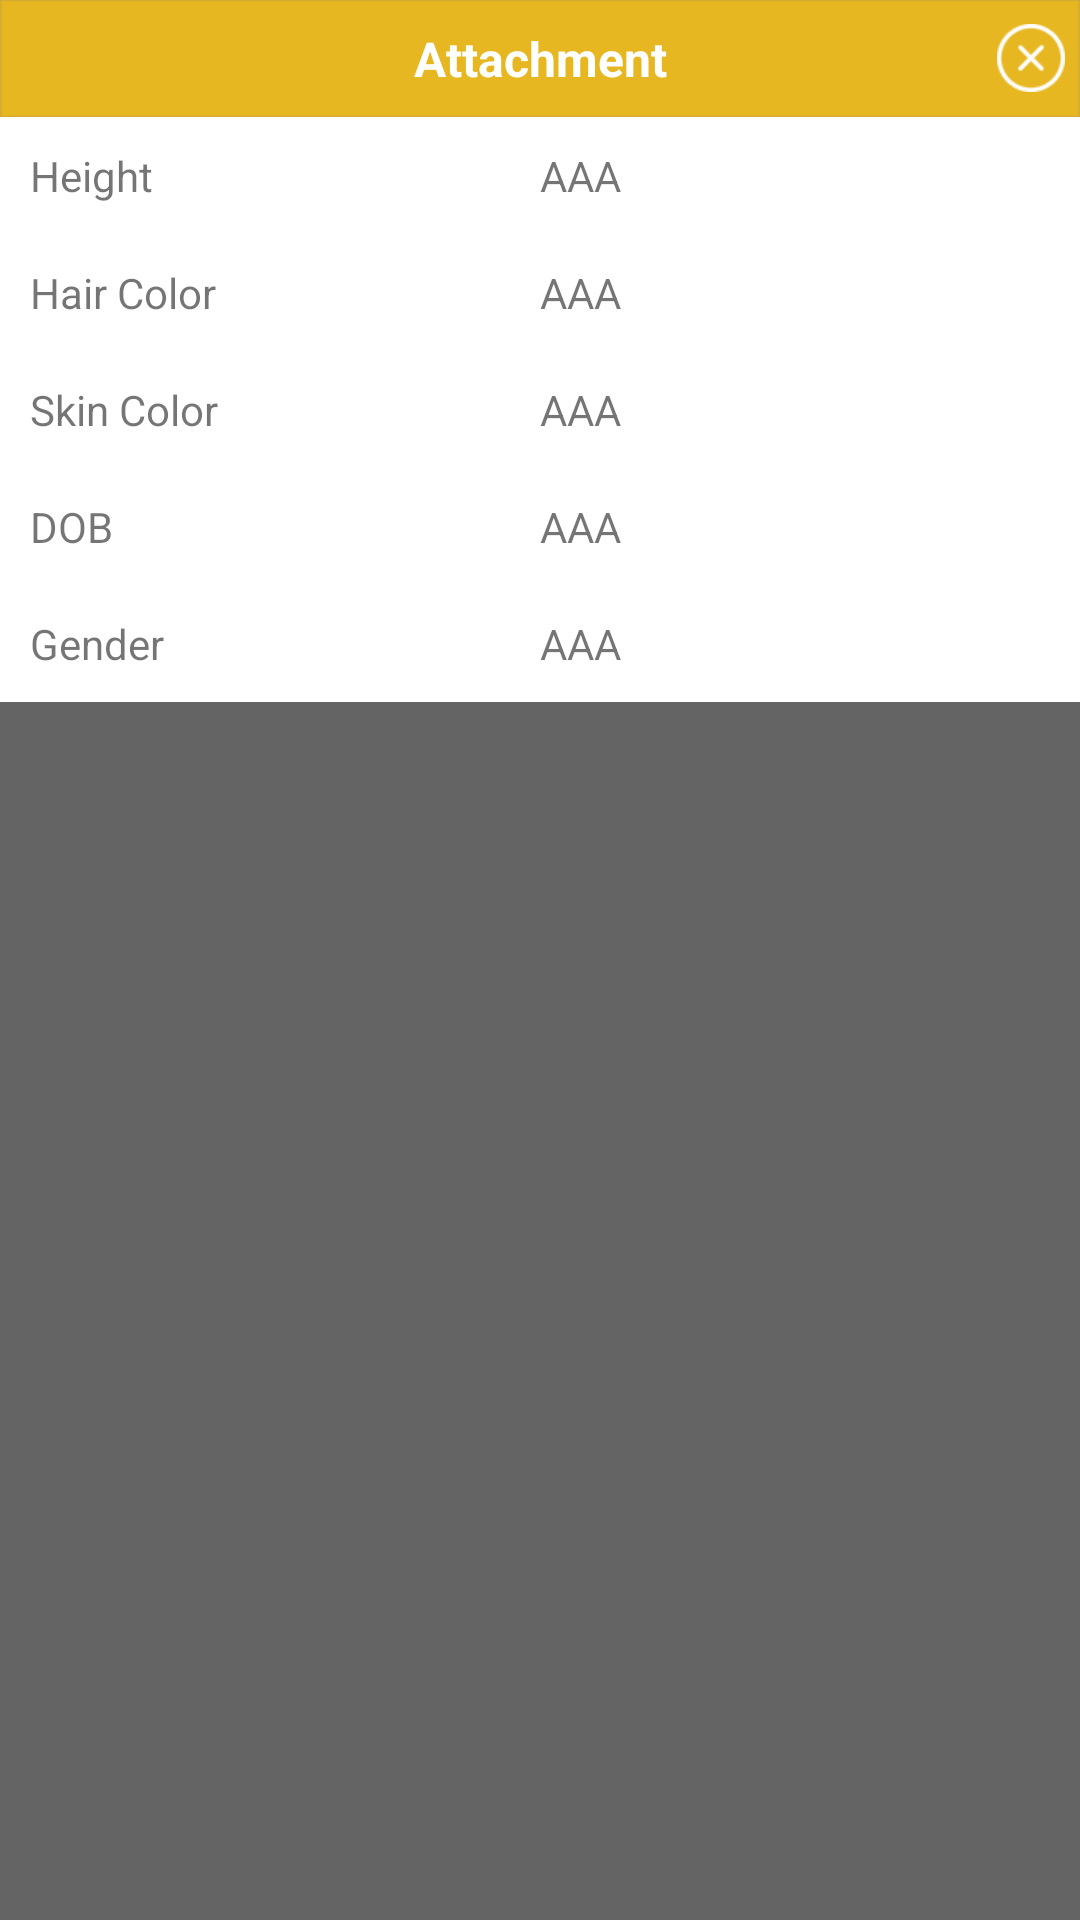

Named icons in this screenshot (1080w x 1920h) and their bounding boxes, (x1, y1, x2, y2):
close: (997, 24, 1065, 92)
